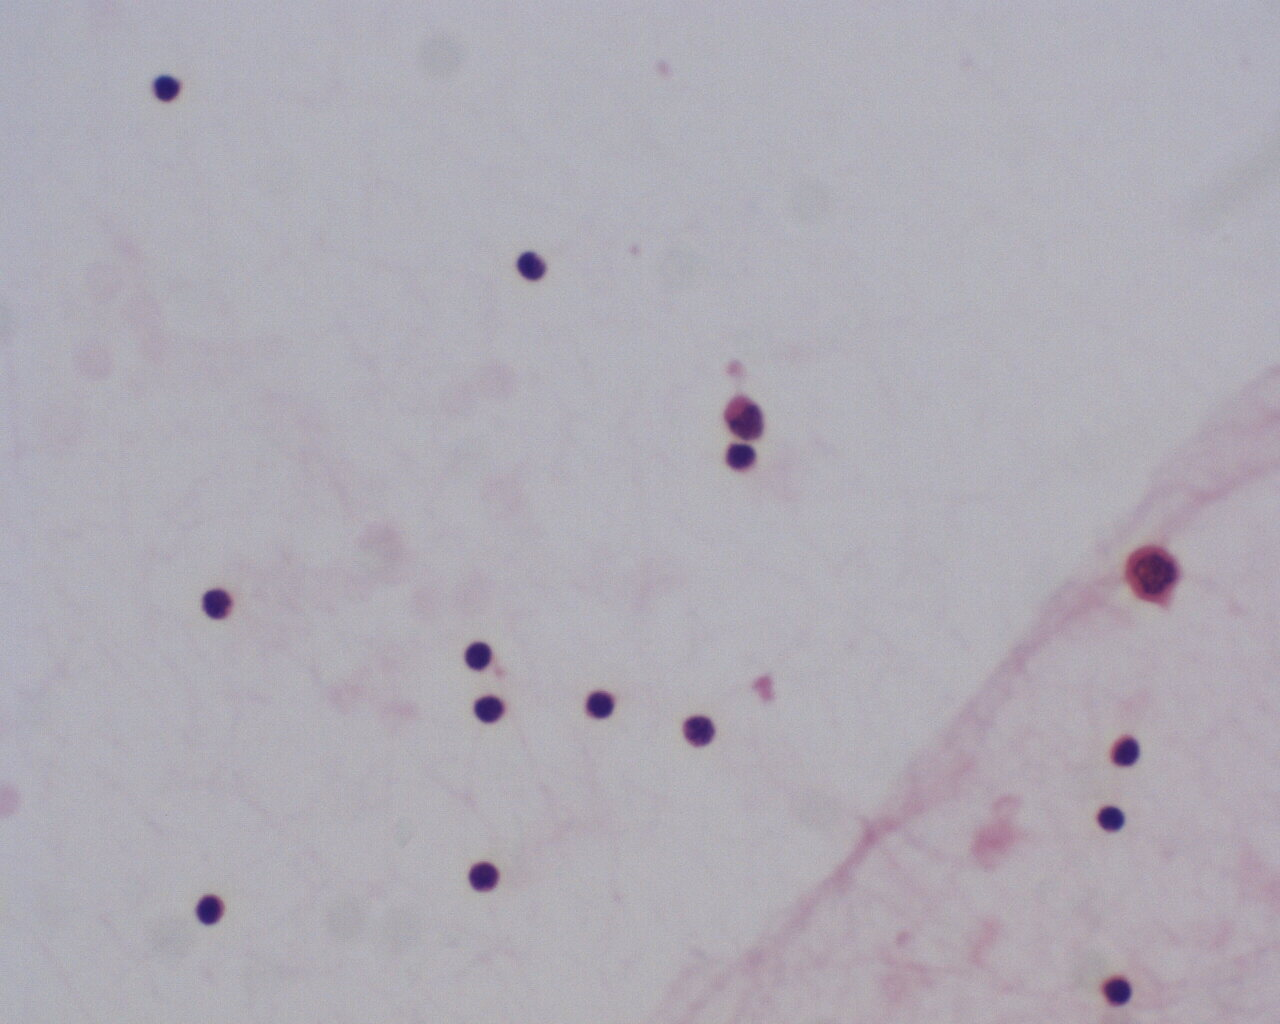ab: (1118, 544, 1185, 605)
lymph: (453, 638, 501, 675), (193, 890, 231, 929), (197, 587, 238, 623), (1096, 805, 1128, 842), (1110, 734, 1142, 769), (152, 72, 185, 106), (583, 690, 615, 721)
